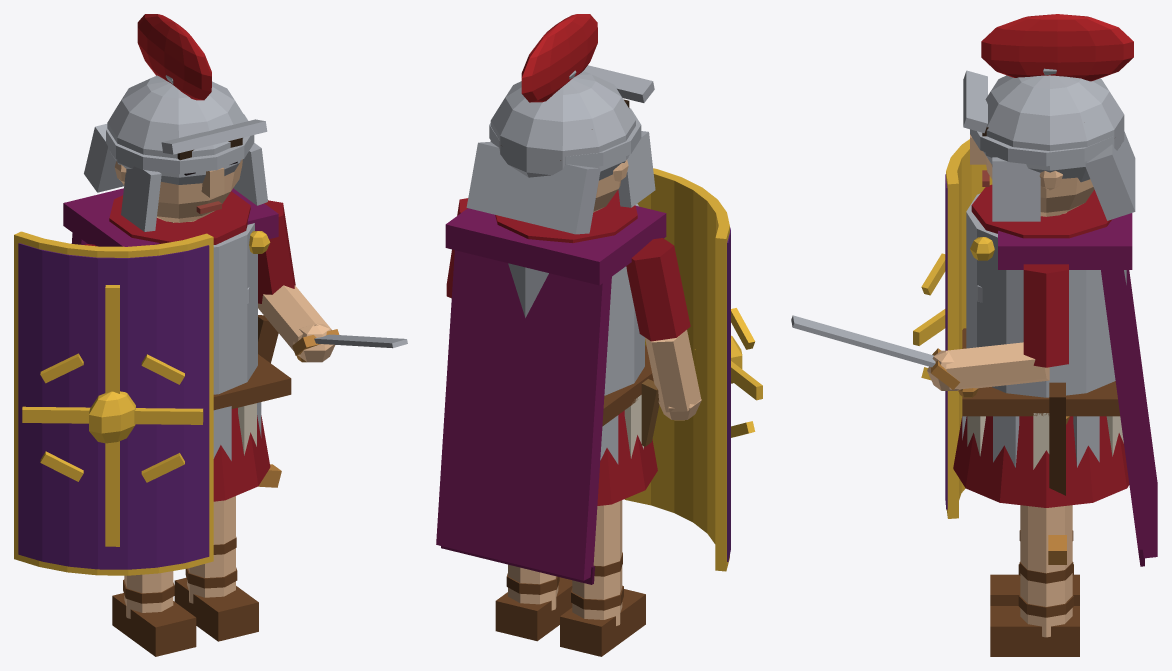
File: pretorianin.glb
3 views of the same model, side by side, from view 1: azimuth 30°, elevation 25°; view 2: azimuth 150°, elevation 25°; view 3: azimuth 270°, elevation 25° (orthographic). The views are drawn at different scales.
Parts seen in each view (by area): view 1: reka_l, glowa, cialo, reka_p, noga_p, noga_l; view 2: peleryna, reka_l, glowa, cialo, noga_l, noga_p; view 3: cialo, glowa, reka_p, noga_p, peleryna, reka_l, noga_l.
Part boxes in pixels (bbox=[...]): reka_l: bbox=[14, 231, 213, 575]; glowa: bbox=[84, 14, 267, 231]; cialo: bbox=[63, 188, 291, 501]; reka_p: bbox=[258, 200, 407, 362]; noga_p: bbox=[174, 496, 258, 641]; noga_l: bbox=[112, 571, 196, 656]; peleryna: bbox=[436, 250, 611, 584]; reka_l: bbox=[624, 168, 762, 571]; glowa: bbox=[466, 14, 655, 234]; cialo: bbox=[445, 190, 666, 505]; noga_l: bbox=[560, 500, 645, 656]; noga_p: bbox=[495, 564, 572, 641]; cialo: bbox=[953, 184, 1132, 564]; glowa: bbox=[963, 14, 1135, 221]; reka_p: bbox=[791, 264, 1068, 397]; noga_p: bbox=[990, 505, 1079, 656]; peleryna: bbox=[1101, 270, 1157, 566]; reka_l: bbox=[913, 139, 992, 518]; noga_l: bbox=[990, 530, 1079, 605].
Bounding box in the file's own units: 0.929 × 1.83 × 0.9829.
